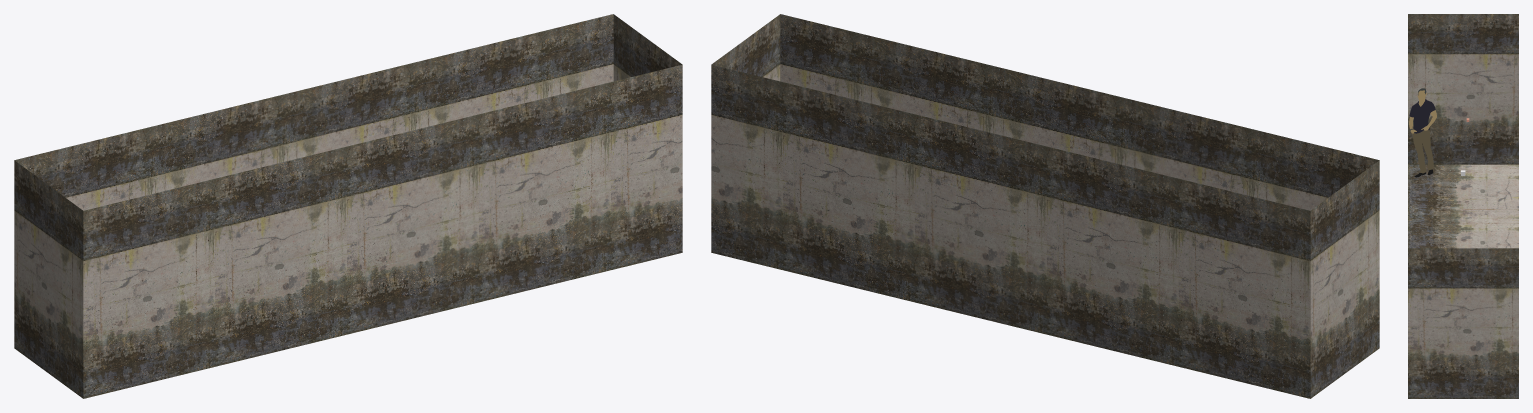
Rendered from starwars.dae.
The picture shows the model from 3 angles, left to right: view 1: azimuth 30°, elevation 25°; view 2: azimuth 150°, elevation 25°; view 3: azimuth 270°, elevation 25°; orthographic projection. The views are drawn at different scales.
Parts seen in each view (by area): view 1: tunnel_start; view 2: tunnel_start; view 3: tunnel_start, Chris (×2).
Boxes of the visible parts, left/top/right/bottom form: tunnel_start: left=14, top=14, right=682, bottom=398; tunnel_start: left=711, top=14, right=1379, bottom=398; tunnel_start: left=1408, top=14, right=1518, bottom=398; Chris (×2): left=1409, top=99, right=1435, bottom=173.
Size of the model in its own units: 394 by 78.74 by 118.
